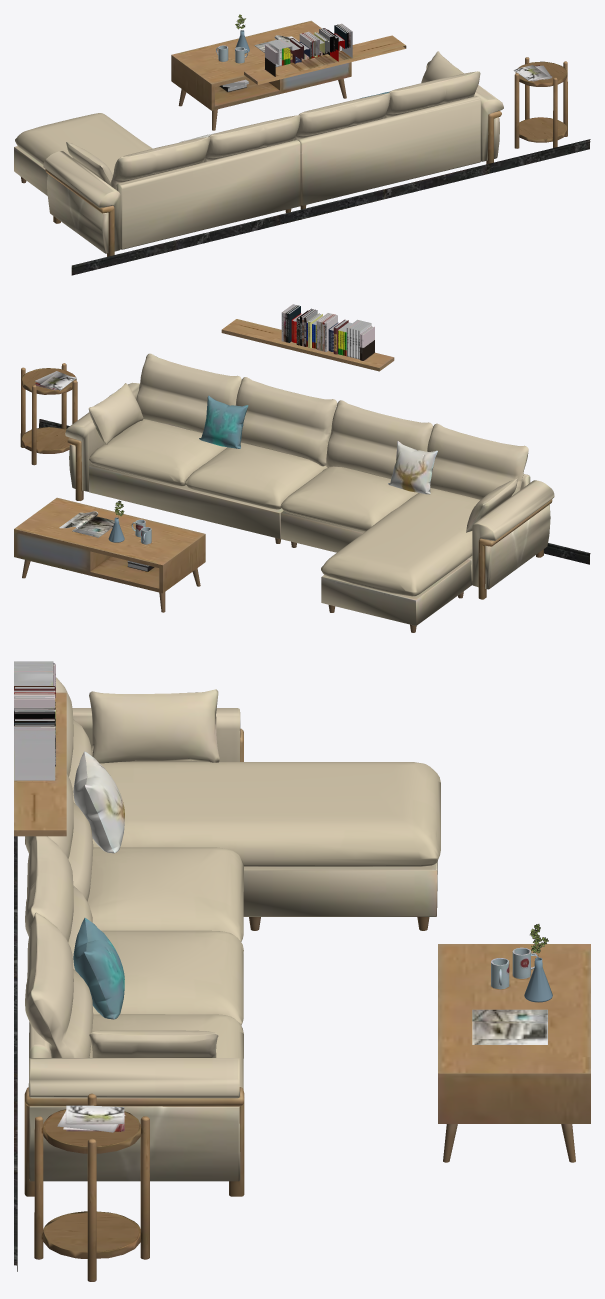
Rendered from salon-angle.glb.
3 renders of one model, top to bottom at view 1: azimuth 30°, elevation 25°; view 2: azimuth 150°, elevation 25°; view 3: azimuth 270°, elevation 25°, orthographic. The views are drawn at different scales.
Parts seen in each view (by area): view 1: sofa_1, sofa_3, sofa_9; view 2: sofa_3, sofa_1, sofa_9; view 3: sofa_3, sofa_1, sofa_9, sofa_7.
Part boxes in pixels (x1,y1,x2,y2): sofa_1: [14, 20, 590, 275]; sofa_3: [15, 35, 552, 189]; sofa_9: [216, 23, 352, 76]; sofa_3: [35, 353, 528, 596]; sofa_1: [14, 319, 590, 632]; sofa_9: [131, 304, 374, 544]; sofa_3: [25, 677, 547, 1132]; sofa_1: [14, 692, 590, 1281]; sofa_9: [14, 661, 538, 989]; sofa_7: [524, 924, 552, 1002].
Bounding box in the file's own units: 4.44 × 1.44 × 2.26.
Materials: 4 (4 with a texture image).
